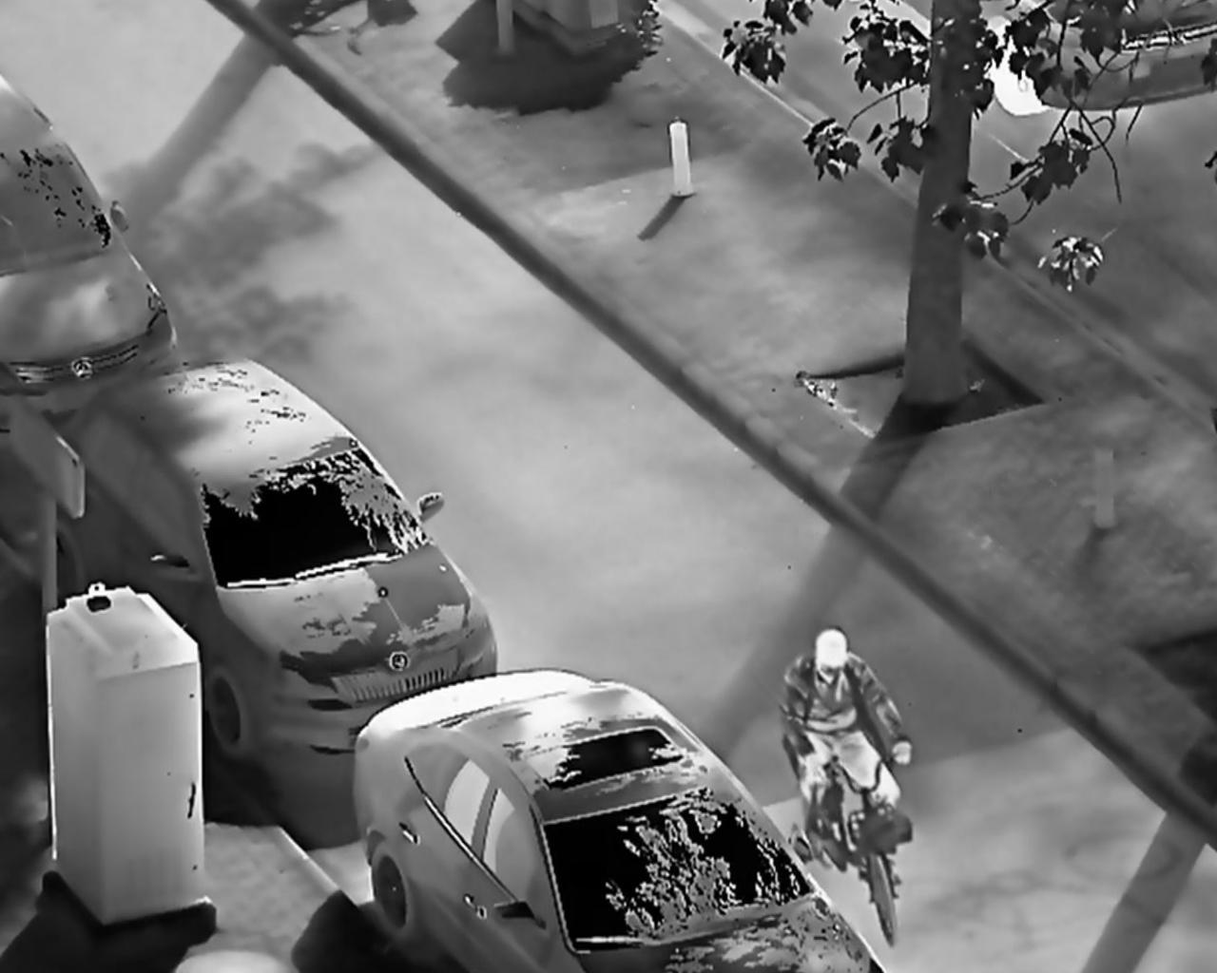person: (778, 624, 918, 892)
